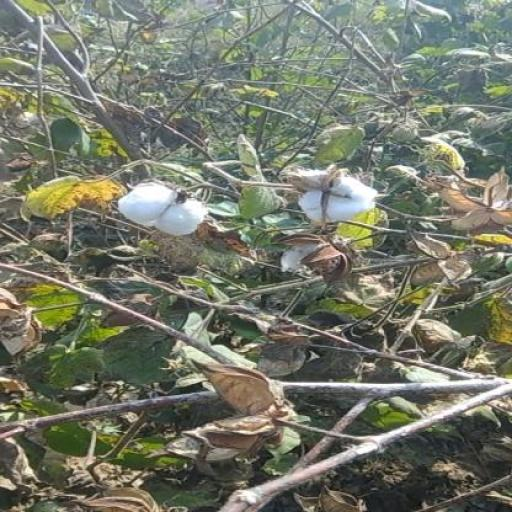cotton_ready: (102, 178, 240, 252), (277, 168, 402, 218)
